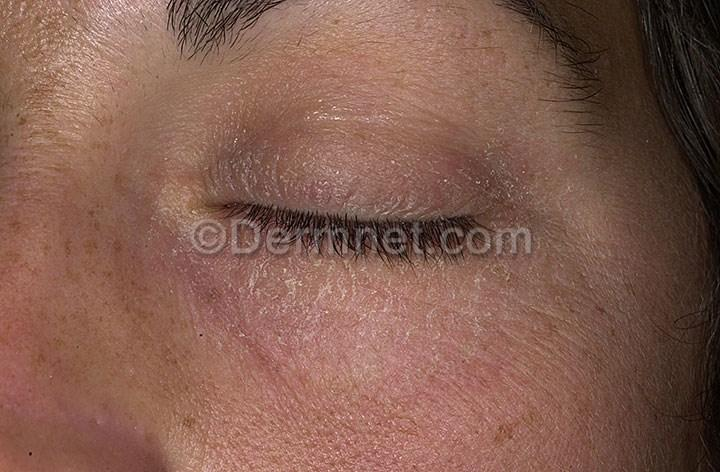Eczema: (367, 266, 540, 359), (194, 258, 352, 354), (195, 106, 323, 196), (465, 113, 557, 210)
